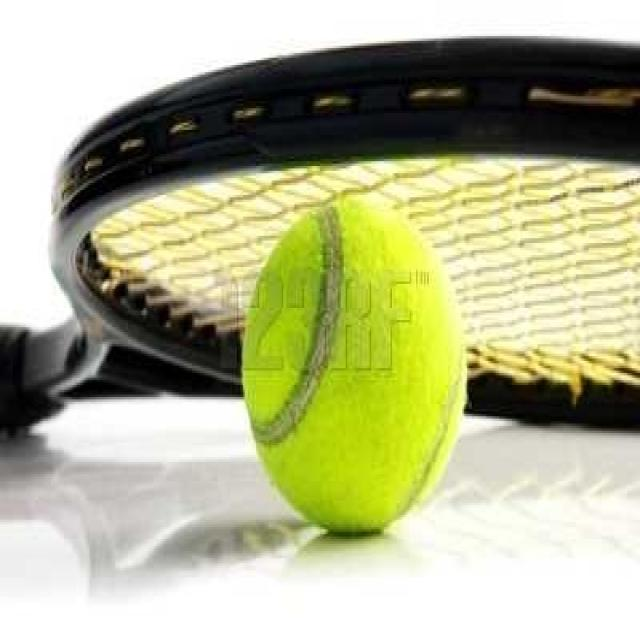Tennis_Ball: (245, 206, 465, 520)
